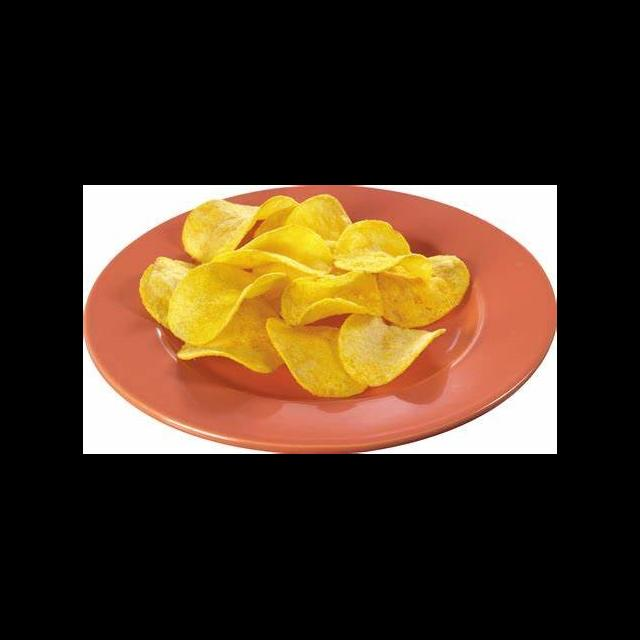food_waste: (215, 245, 402, 367)
